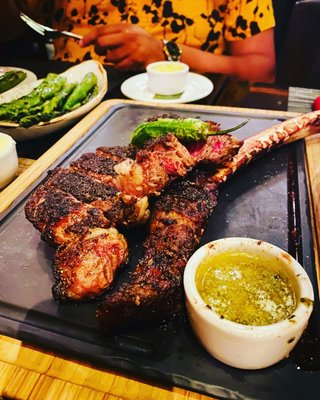sandwich: (0, 300, 256, 400)
sushi: (182, 237, 315, 370), (0, 58, 109, 142)
